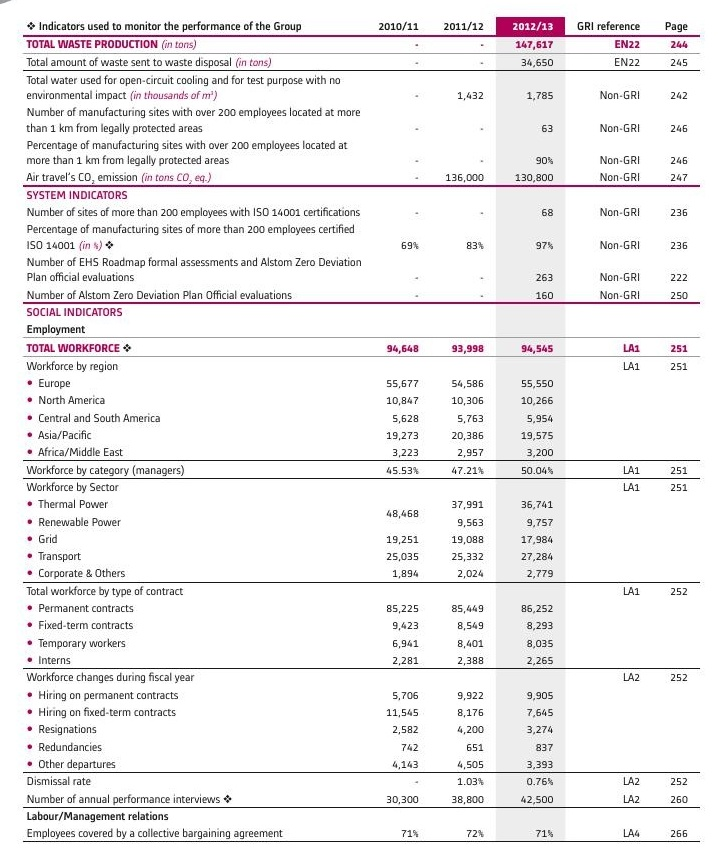table: (0, 0, 723, 861)
